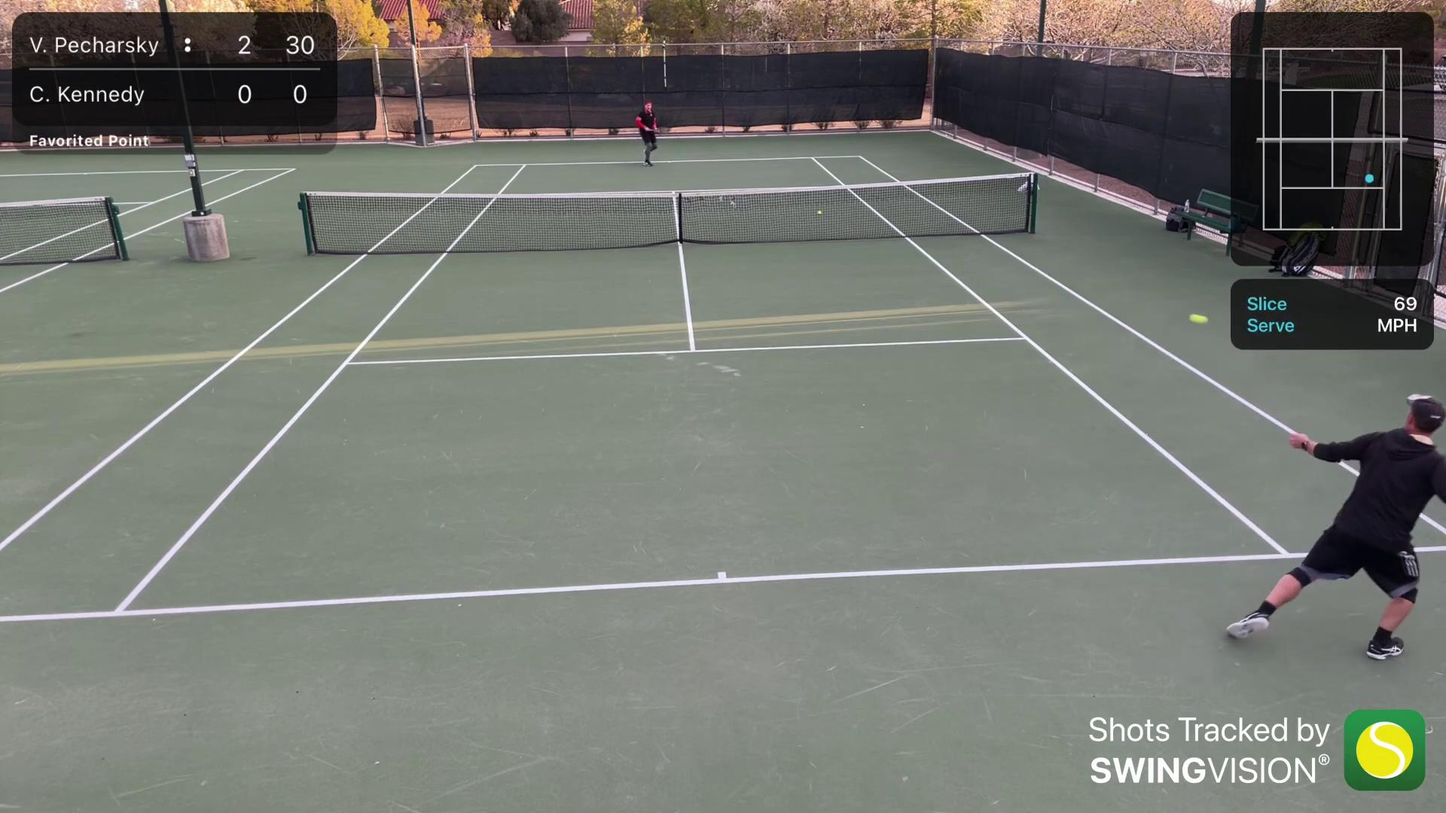ball: (1187, 309, 1209, 328), (815, 209, 825, 218)
